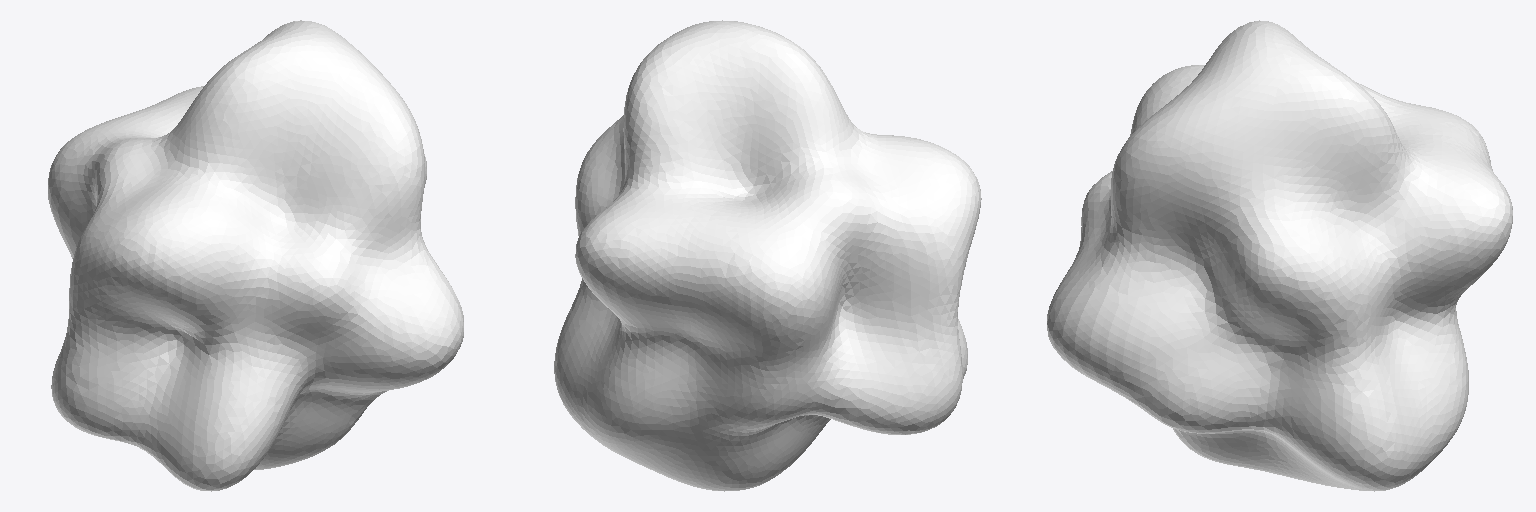
URDF robot description (BigGlaven7):
<robot name="BigGlaven7">
	<link name="_name">
		<visual>
			<origin rpy="0 0 0" xyz="-0.0007754358877108795 0.00021979286256899267 -0.00041069816473134665" />
			<geometry>
				<mesh filename="BigGlaven7.obj" scale="0.001 0.001 0.001" />
			</geometry>
			<material name="texture">
				<color rgba="1.0 1.0 1.0 1.0" />
			</material>
		</visual>
		<collision>
			<geometry>
				<mesh filename="BigGlaven7_vhacd.obj" scale="0.001 0.001 0.001" />
			</geometry>
		<origin rpy="0 0 0" xyz="-0.0007754358877108795 0.00021979286256899267 -0.00041069816473134665" /></collision>
		<inertial>
			<mass value="1.0" />
			<inertia ixx="1.0" ixy="0.0" ixz="0.0" iyy="1.0" iyz="0.0" izz="1.0" />
		</inertial>
	</link>
</robot>

--- What the picture shows (computed from the rendered views, not written in the file) ---
The picture shows the robot from 3 angles, left to right: view 1: azimuth 30°, elevation 25°; view 2: azimuth 150°, elevation 25°; view 3: azimuth 270°, elevation 25°; orthographic projection.
Robot: BigGlaven7 — 1 links, 0 joints (none); root link _name; default pose: all joints at 0.
Links seen in each view (by area): view 1: _name; view 2: _name; view 3: _name.
Boxes of the visible links, left/top/right/bottom form: _name: left=48, top=20, right=463, bottom=491; _name: left=554, top=20, right=981, bottom=491; _name: left=1047, top=20, right=1512, bottom=491.
Size in the robot's own frame: 0.0432 by 0.0447 by 0.0484 metres.
1 mesh visuals loaded from 1 distinct referenced files (1 OBJ).
